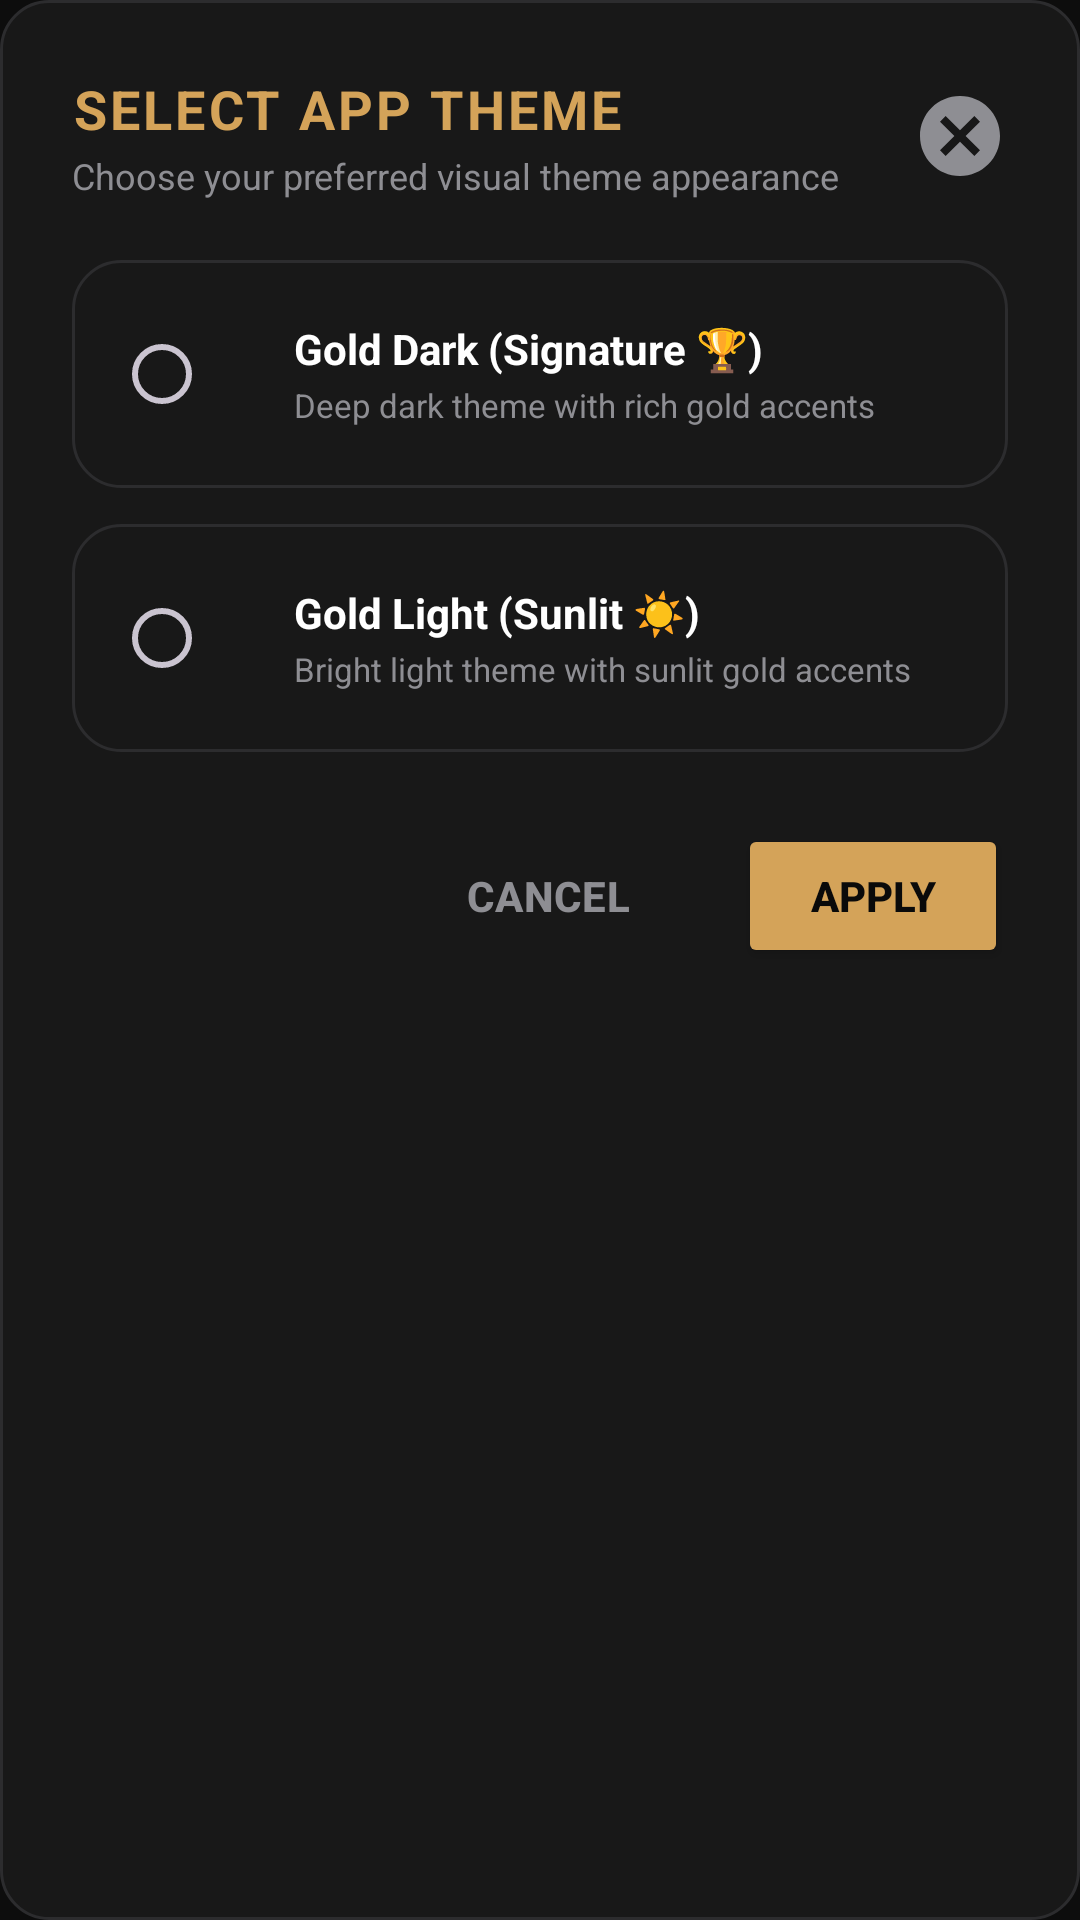

Locate icon controls on the screen. Image size 1080px×1920px, boxes as (x1, y1, x2, y2).
Close: (920, 96, 1000, 176)
